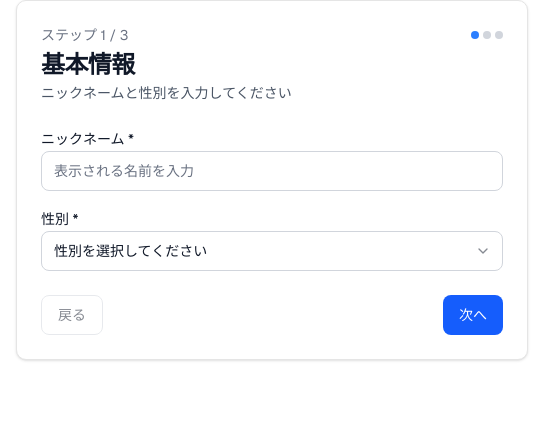
Test: ProfileRegistrationForm › Stage 1 - 基本情報 › 短すぎるニックネームでエラーが表示される
The width and height of the screenshot is (545, 434).
Type "A" into the field labelled "ニックネーム *" at (272, 171), box [41,151,503,191]
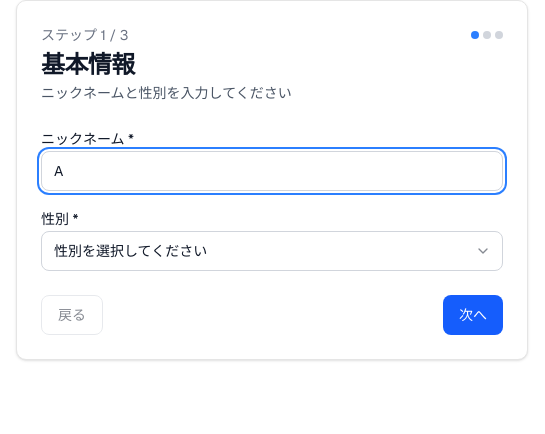
Click the button "次へ" at (473, 315), box [443,295,503,335]
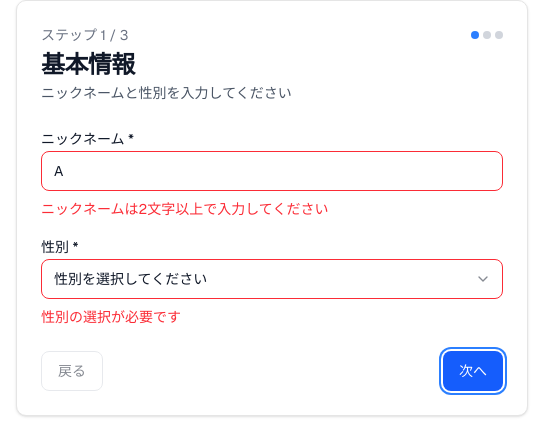
Expected: the text "ニックネームは2文字以上で入力してください" is shown, [41,200,328,218]
